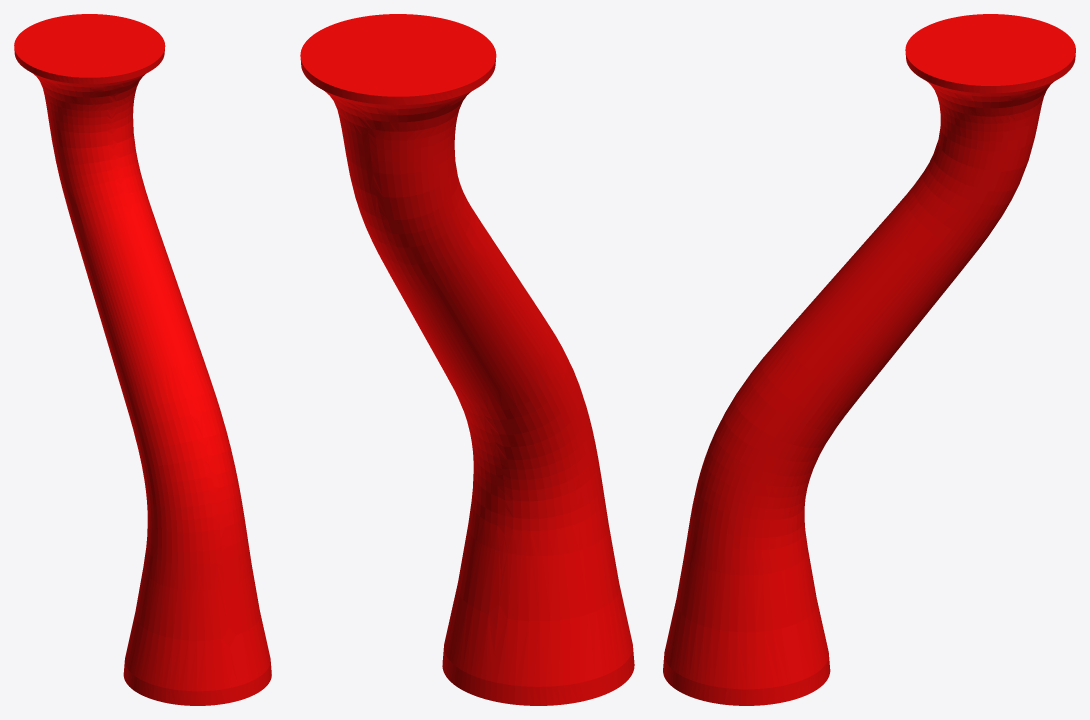
3 views of the same model, side by side, from view 1: azimuth 30°, elevation 25°; view 2: azimuth 150°, elevation 25°; view 3: azimuth 270°, elevation 25° (orthographic). The views are drawn at different scales.
Visible parts, largest first — view 1: MF1013_4_0; view 2: MF1013_4_0; view 3: MF1013_4_0.
Boxes of the visible parts, box(x1,y1,x2,y2) form: MF1013_4_0: box(14, 14, 271, 705); MF1013_4_0: box(300, 14, 634, 705); MF1013_4_0: box(663, 14, 1075, 705).
Size of the model in its own units: 102 by 247 by 409.
